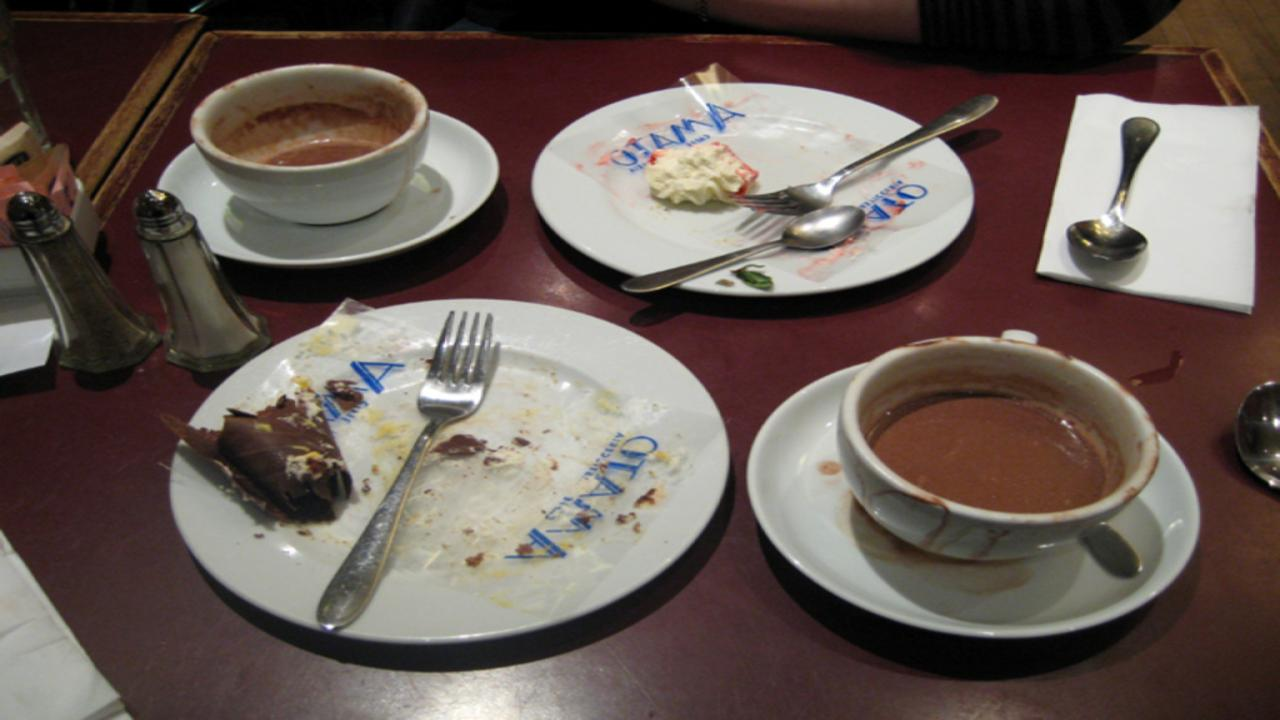fork: (318, 310, 497, 638), (729, 92, 1013, 216)
